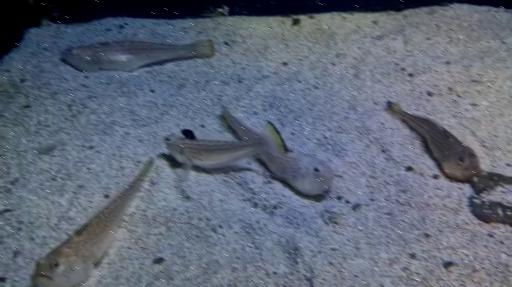Fish: (32, 157, 152, 286), (220, 105, 334, 195), (388, 101, 482, 182), (164, 129, 270, 179), (62, 39, 214, 72), (181, 129, 195, 139), (310, 277, 312, 286)
